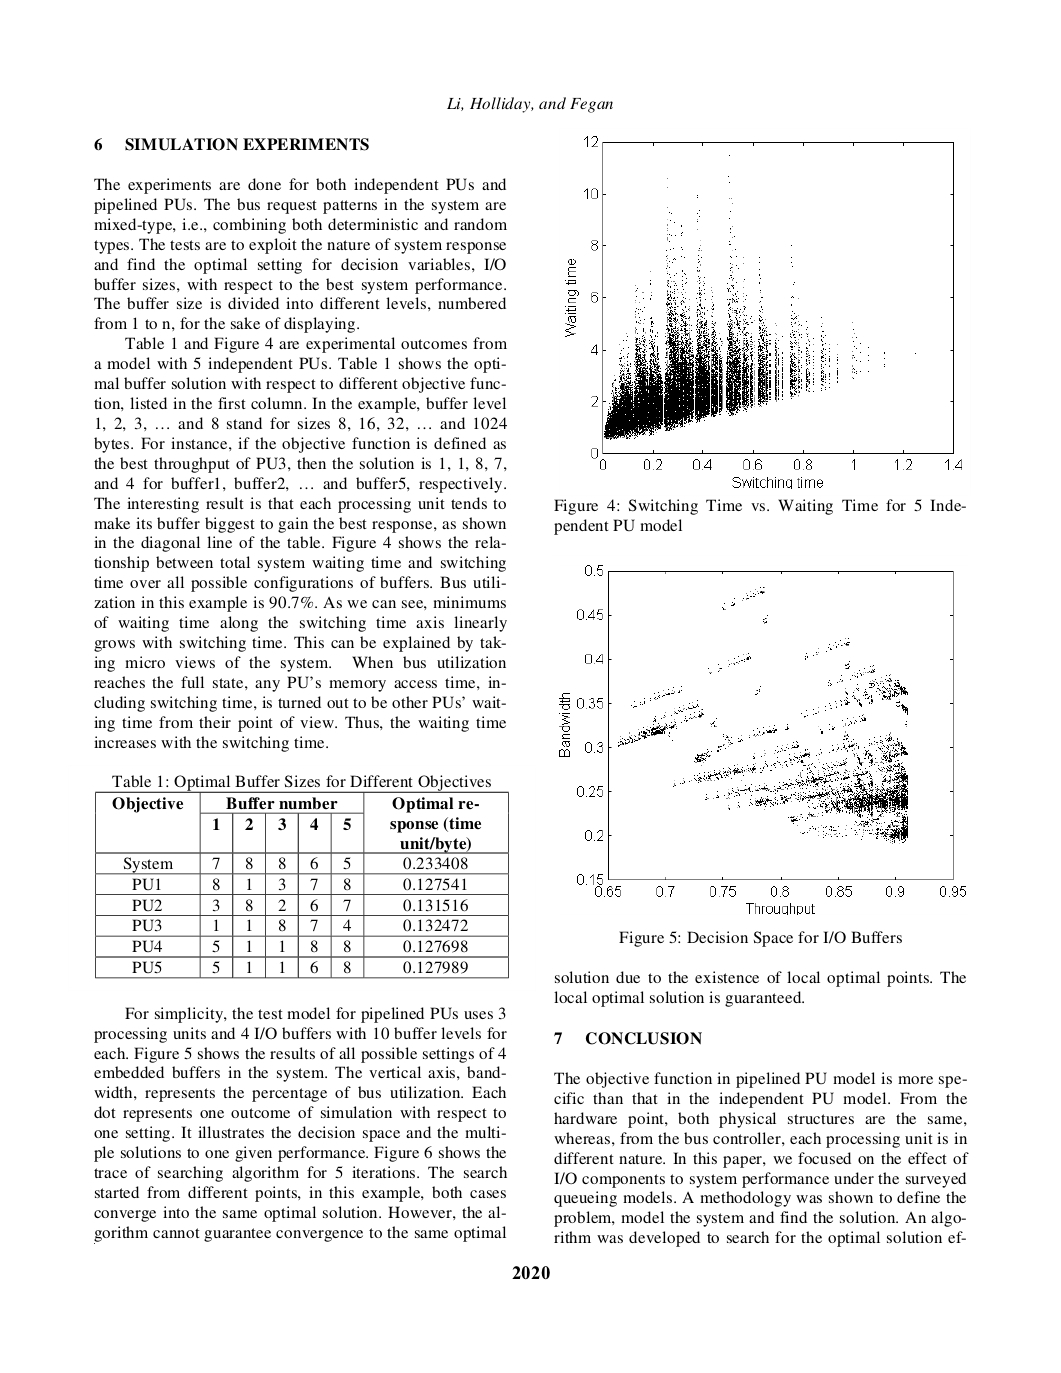Table: (95, 789, 508, 978)
figure: (559, 565, 965, 914), (565, 136, 961, 488)
